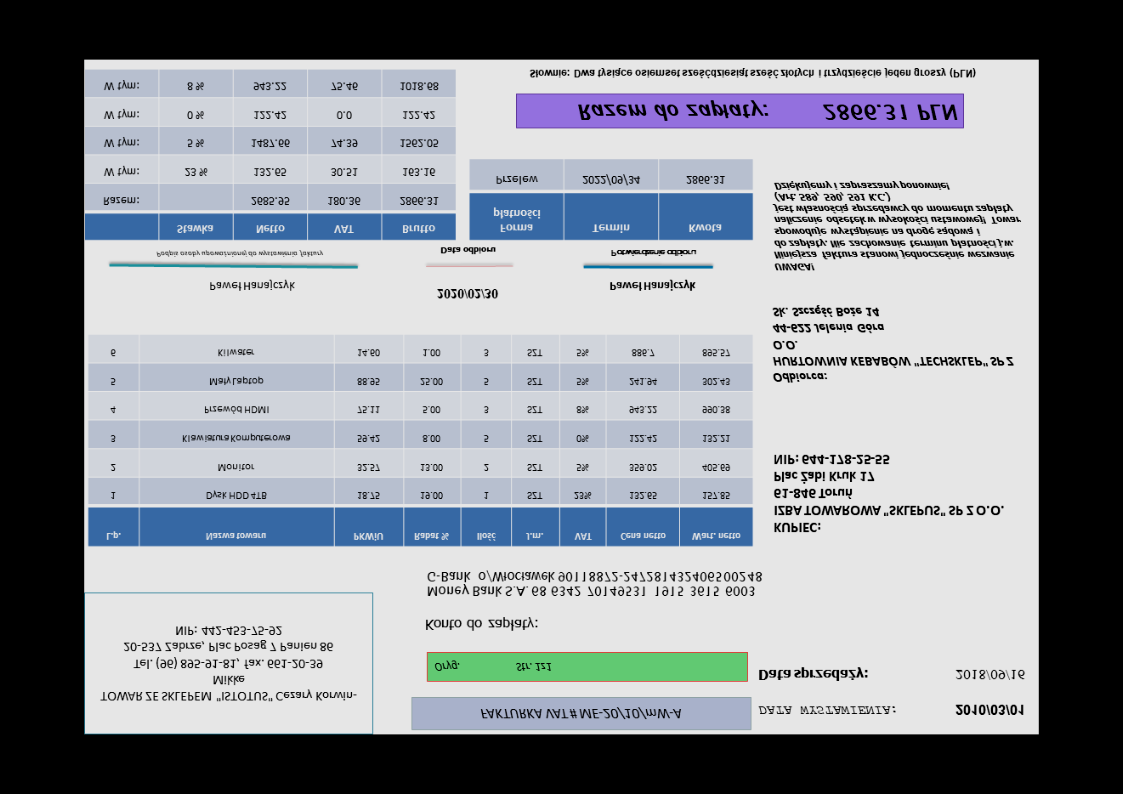Table: (86, 333, 754, 549), (85, 68, 457, 241), (468, 158, 754, 241)
TextBox: (773, 179, 1025, 275), (99, 624, 358, 703), (770, 304, 1014, 387), (771, 451, 1006, 537), (575, 97, 961, 126), (424, 570, 765, 598), (527, 64, 978, 82), (479, 705, 685, 722), (757, 701, 899, 719), (153, 247, 324, 260), (423, 615, 539, 633), (757, 665, 870, 683), (433, 659, 553, 673), (607, 276, 697, 294), (207, 279, 297, 296), (954, 666, 1029, 683), (952, 701, 1024, 718), (608, 247, 699, 259), (435, 285, 499, 302), (438, 245, 497, 257)
